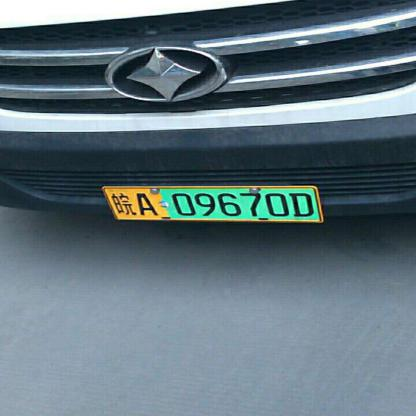lp: (101, 185, 322, 223)
